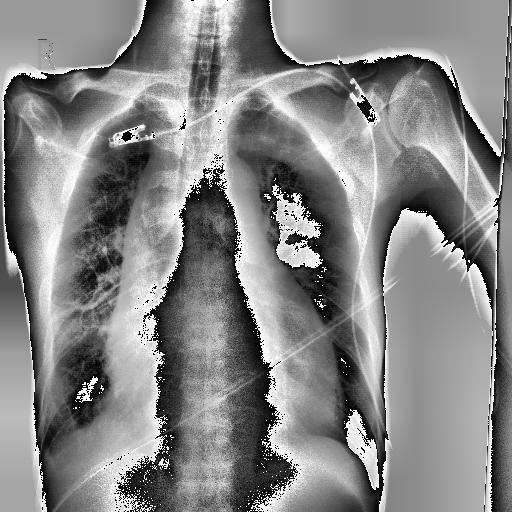0- Aortic enlargement: (202, 149, 262, 236)
10- Pleural effusion: (36, 431, 70, 488), (35, 442, 77, 482), (42, 438, 56, 480), (372, 478, 382, 504)
11- Pleural thickening: (222, 81, 340, 192), (36, 431, 70, 488), (119, 82, 156, 112), (42, 438, 56, 480), (372, 478, 382, 504)
13- Pulmonary fibrosis: (52, 250, 126, 338), (52, 276, 124, 334), (62, 396, 80, 434)
3- Cardiomegaly: (105, 304, 342, 434), (103, 324, 343, 442), (104, 330, 340, 448)
7- Lung Opacity: (222, 81, 340, 192)
